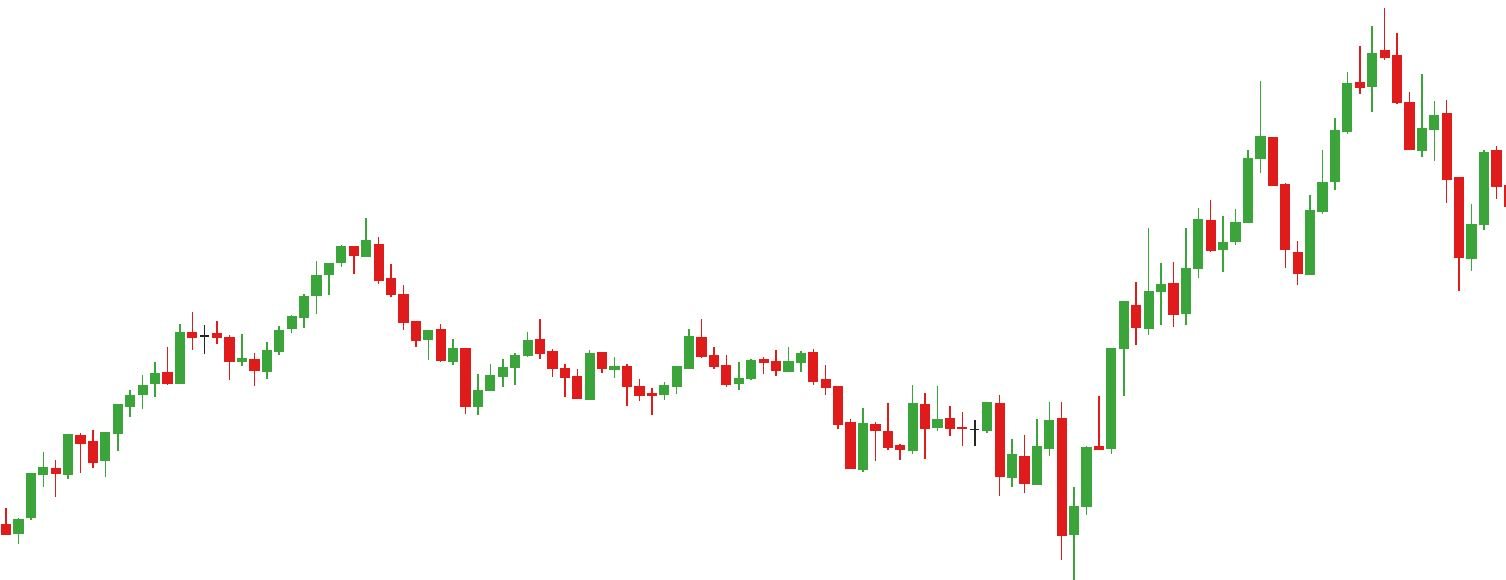buy: (1216, 175, 1318, 287)
sell: (1255, 46, 1366, 169), (583, 316, 710, 383)
